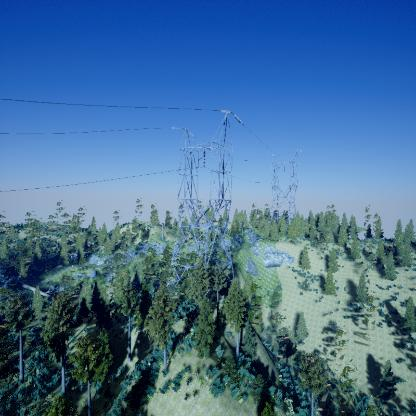tower: (167, 105, 243, 297), (265, 146, 302, 221)
